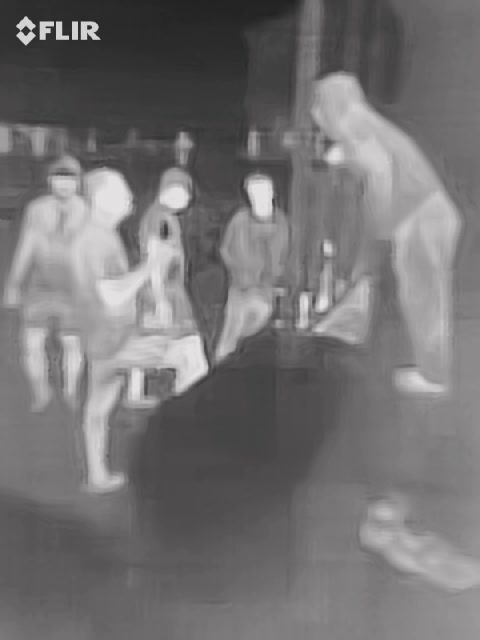head: (86, 164, 134, 222)
